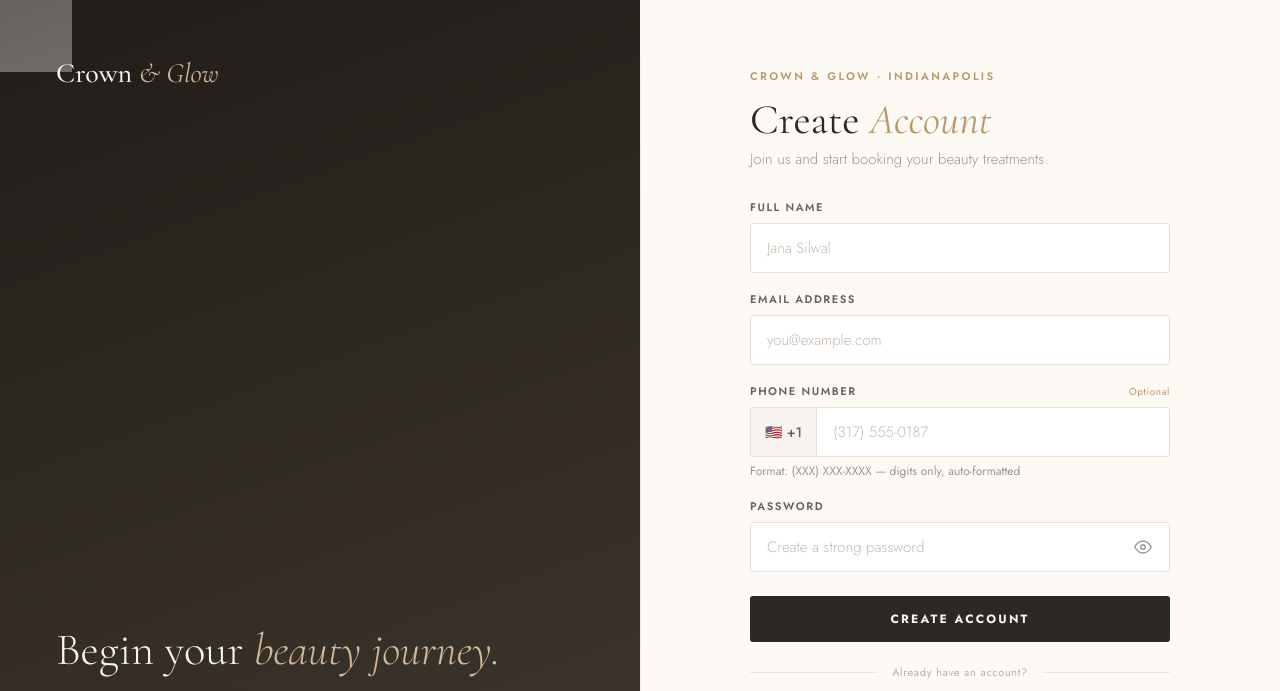
Test: <RegisterPage /> › shows a password error and blocks submission when the form is submitted with an empty password
Type "Jane Doe" into the field labelled "Full Name" at (960,248), box top-left (750, 223), bottom-right (1170, 273)
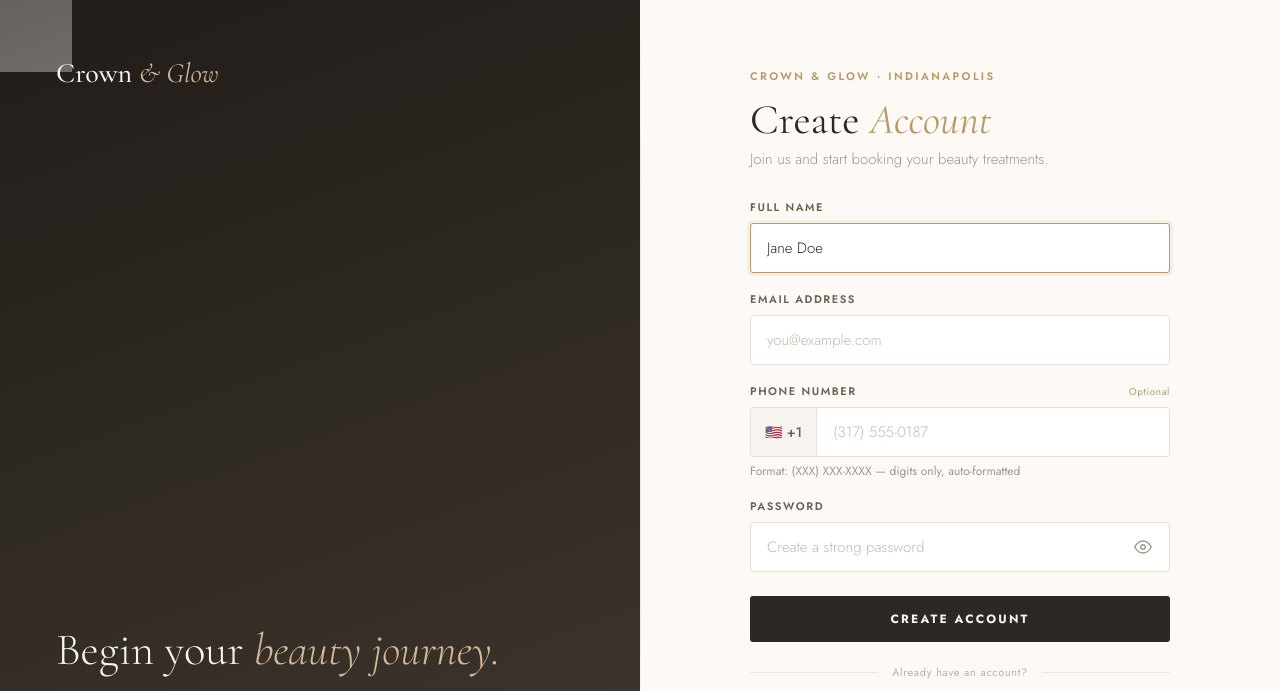
Type "jane@example.com" into the field labelled "Email Address" at (960,340), box top-left (750, 315), bottom-right (1170, 365)
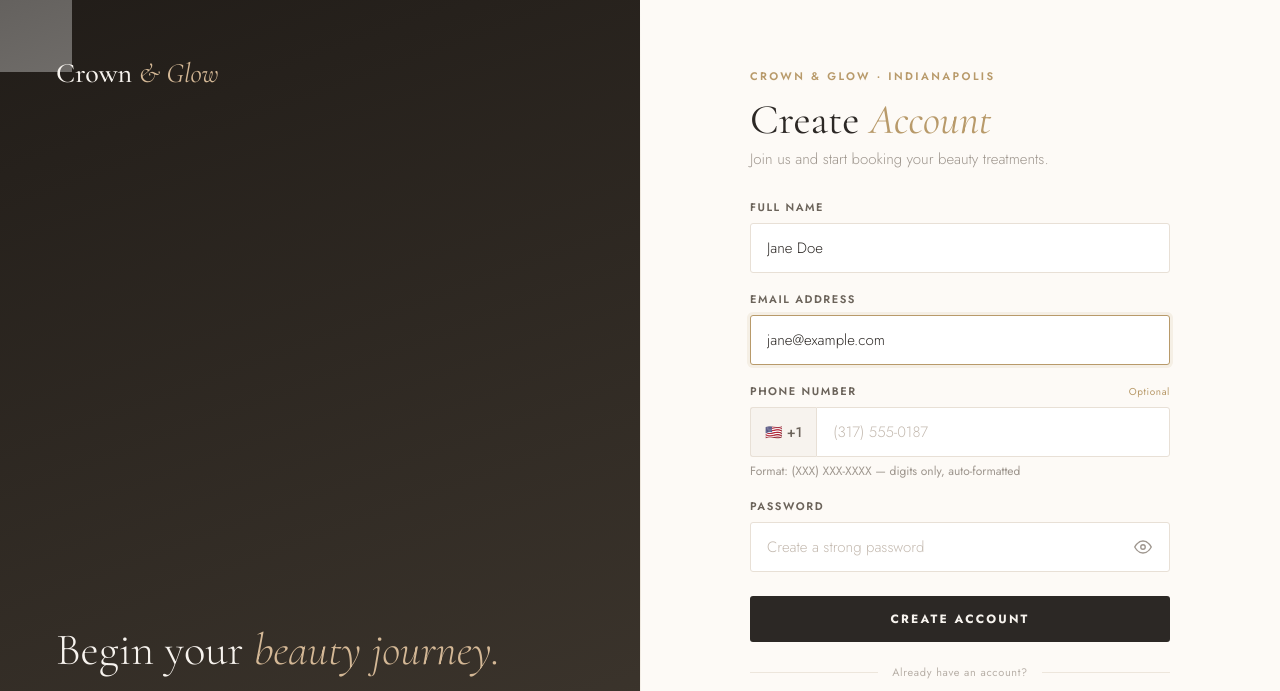
Click the button "Create Account" at (960,619), box top-left (750, 596), bottom-right (1170, 642)
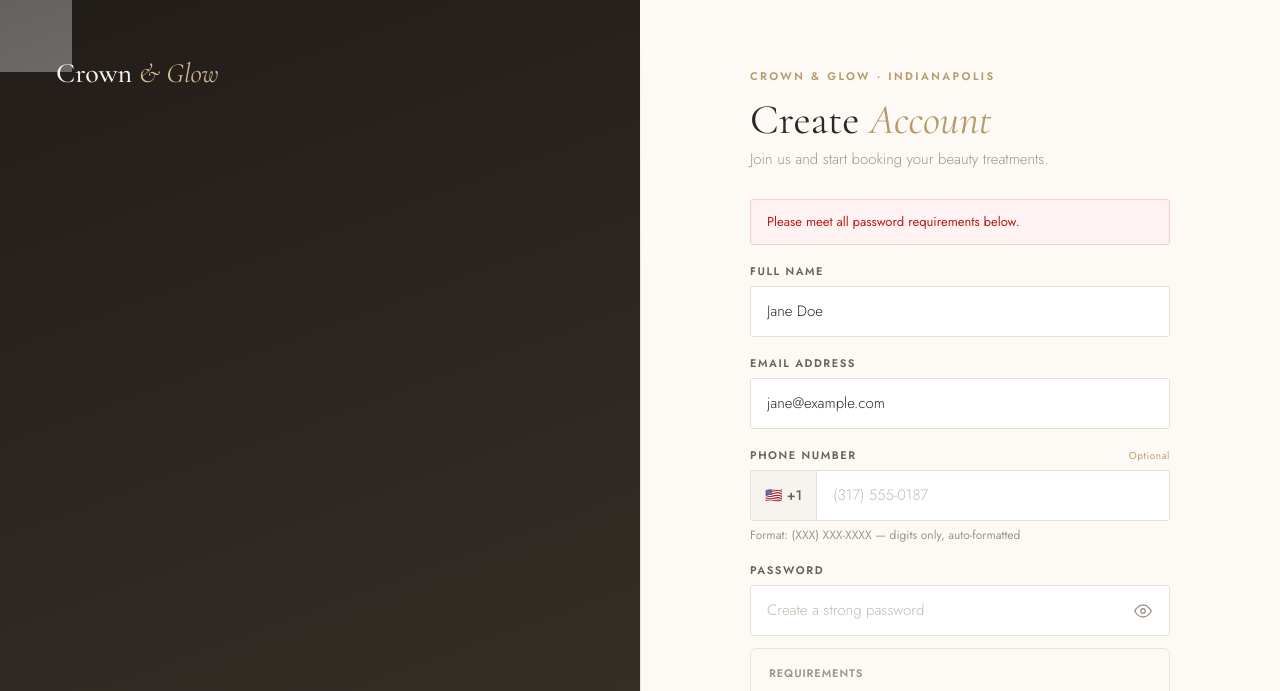
Expected: the message reads "Please meet all password requirements below.", top-left (767, 212), bottom-right (1020, 231)
